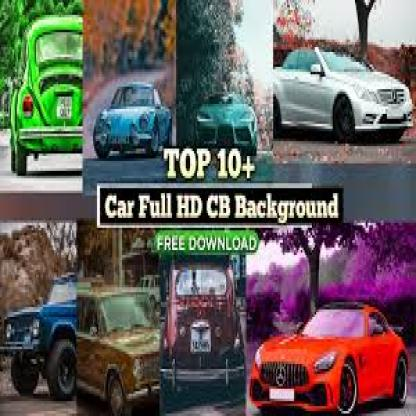car: (252, 301, 413, 411), (275, 44, 412, 144), (164, 252, 247, 390), (77, 287, 161, 416), (15, 16, 83, 171), (2, 275, 77, 411), (93, 80, 170, 159), (193, 89, 263, 153)
